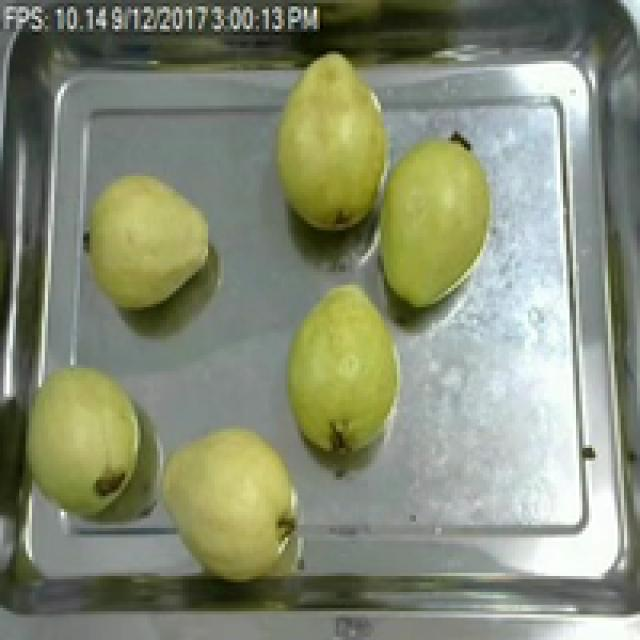Fruit: (154, 413, 314, 592), (262, 45, 400, 240), (3, 352, 154, 528), (365, 128, 502, 314), (275, 275, 410, 461), (74, 163, 218, 320)
